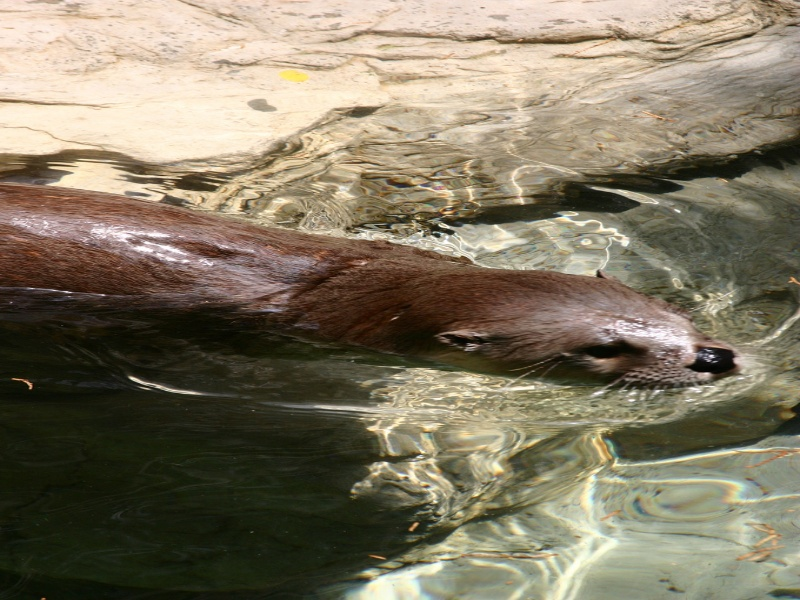minkish: (1, 159, 751, 407)
